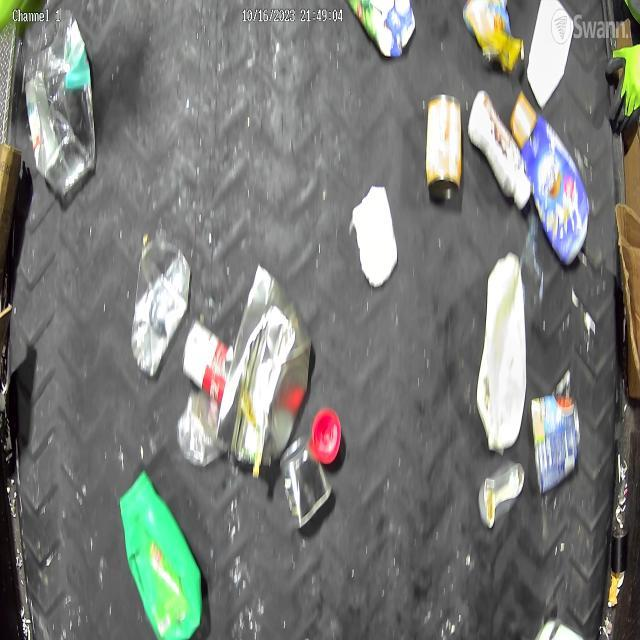can: (530, 370, 581, 494), (279, 436, 333, 530), (181, 318, 234, 406), (425, 92, 463, 200), (478, 458, 526, 529)
milk_jug: (475, 254, 528, 452)
non_white_jug: (119, 467, 204, 640), (508, 96, 590, 265)
